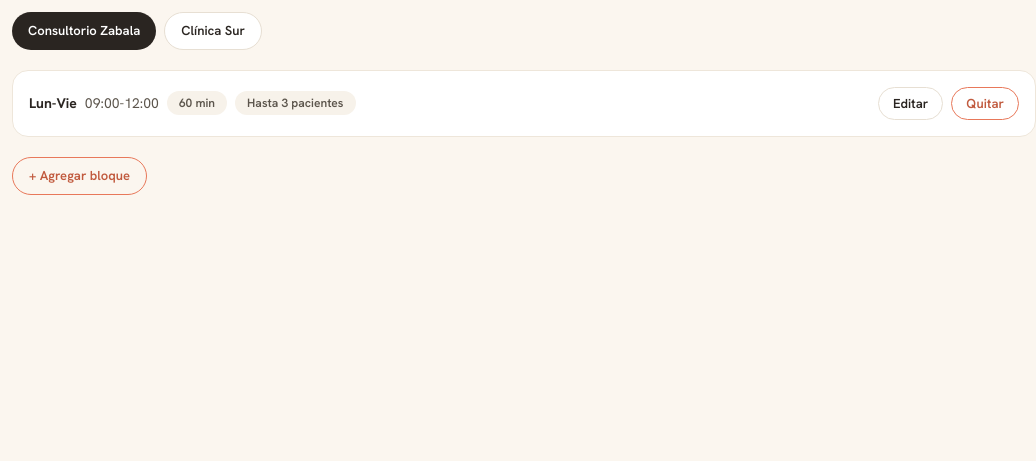
ScheduleEditor › shows the server's overlap error and keeps the form open
Step 1. Click the button "+ Agregar bloque" → (80,176), box 12,157 -> 147,194
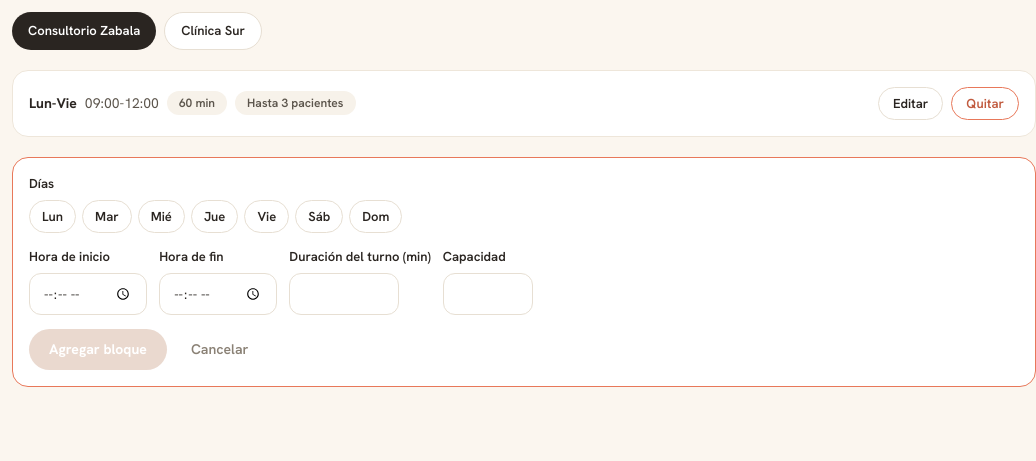
Step 2. Click the button "Lun" → (53,216), box 29,200 -> 76,233
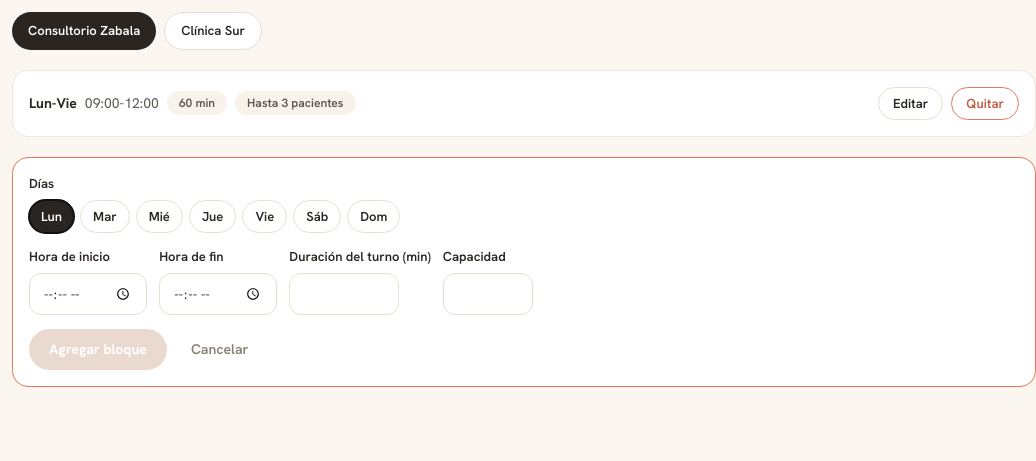
Step 3. Type "09:00" into the time field labelled "Hora de inicio" → (88,294), box 29,272 -> 147,315
Step 4. Type "12:00" into the time field labelled "Hora de fin" → (218,294), box 159,272 -> 277,315
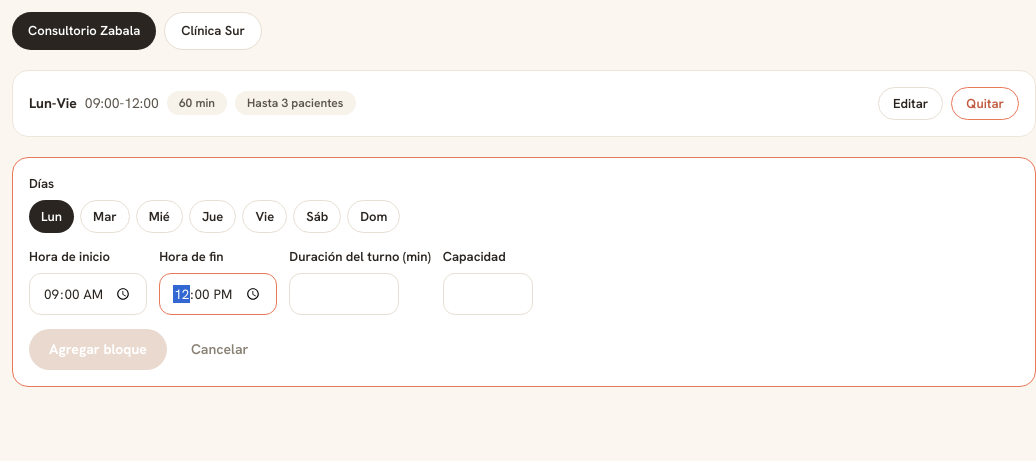
Step 5. Type "30" into the number field labelled "Duración del turno (min)" → (344,294), box 289,272 -> 399,315
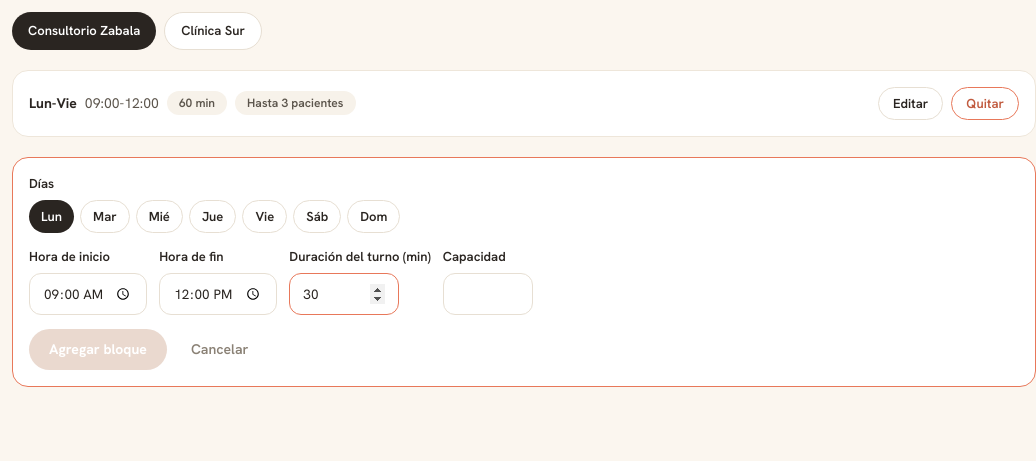
Step 6. Type "2" into the number field labelled "Capacidad" → (488,294), box 443,272 -> 533,315
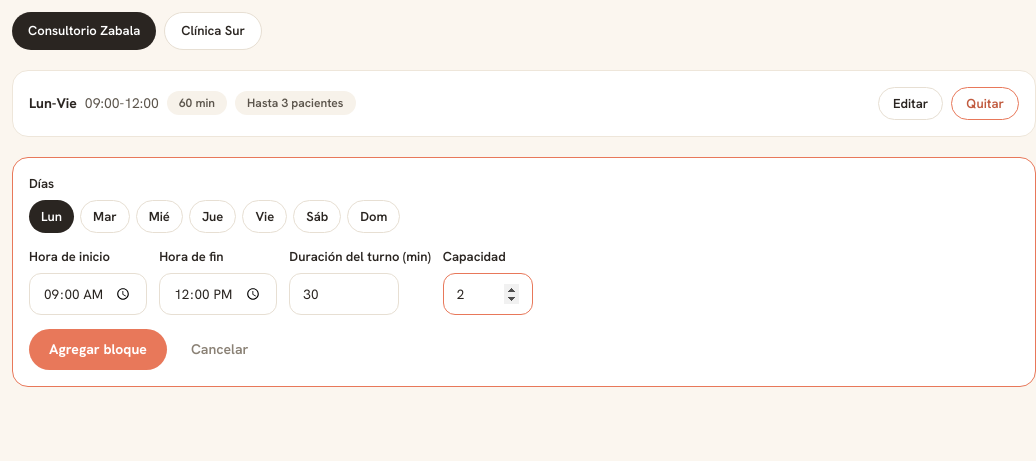
Step 7. Click the button "Agregar bloque" → (98,349), box 29,329 -> 167,370
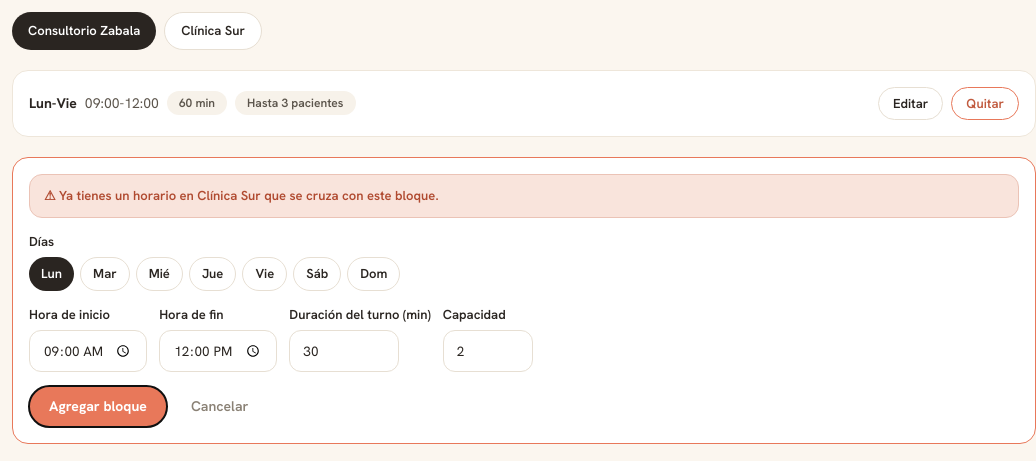
Expected: the button "Agregar bloque" is shown, 29,386 -> 167,427
Expected: the message shows "Ya tienes un horario en Clínica Sur que se cruza con este bloque.", 59,187 -> 438,204
